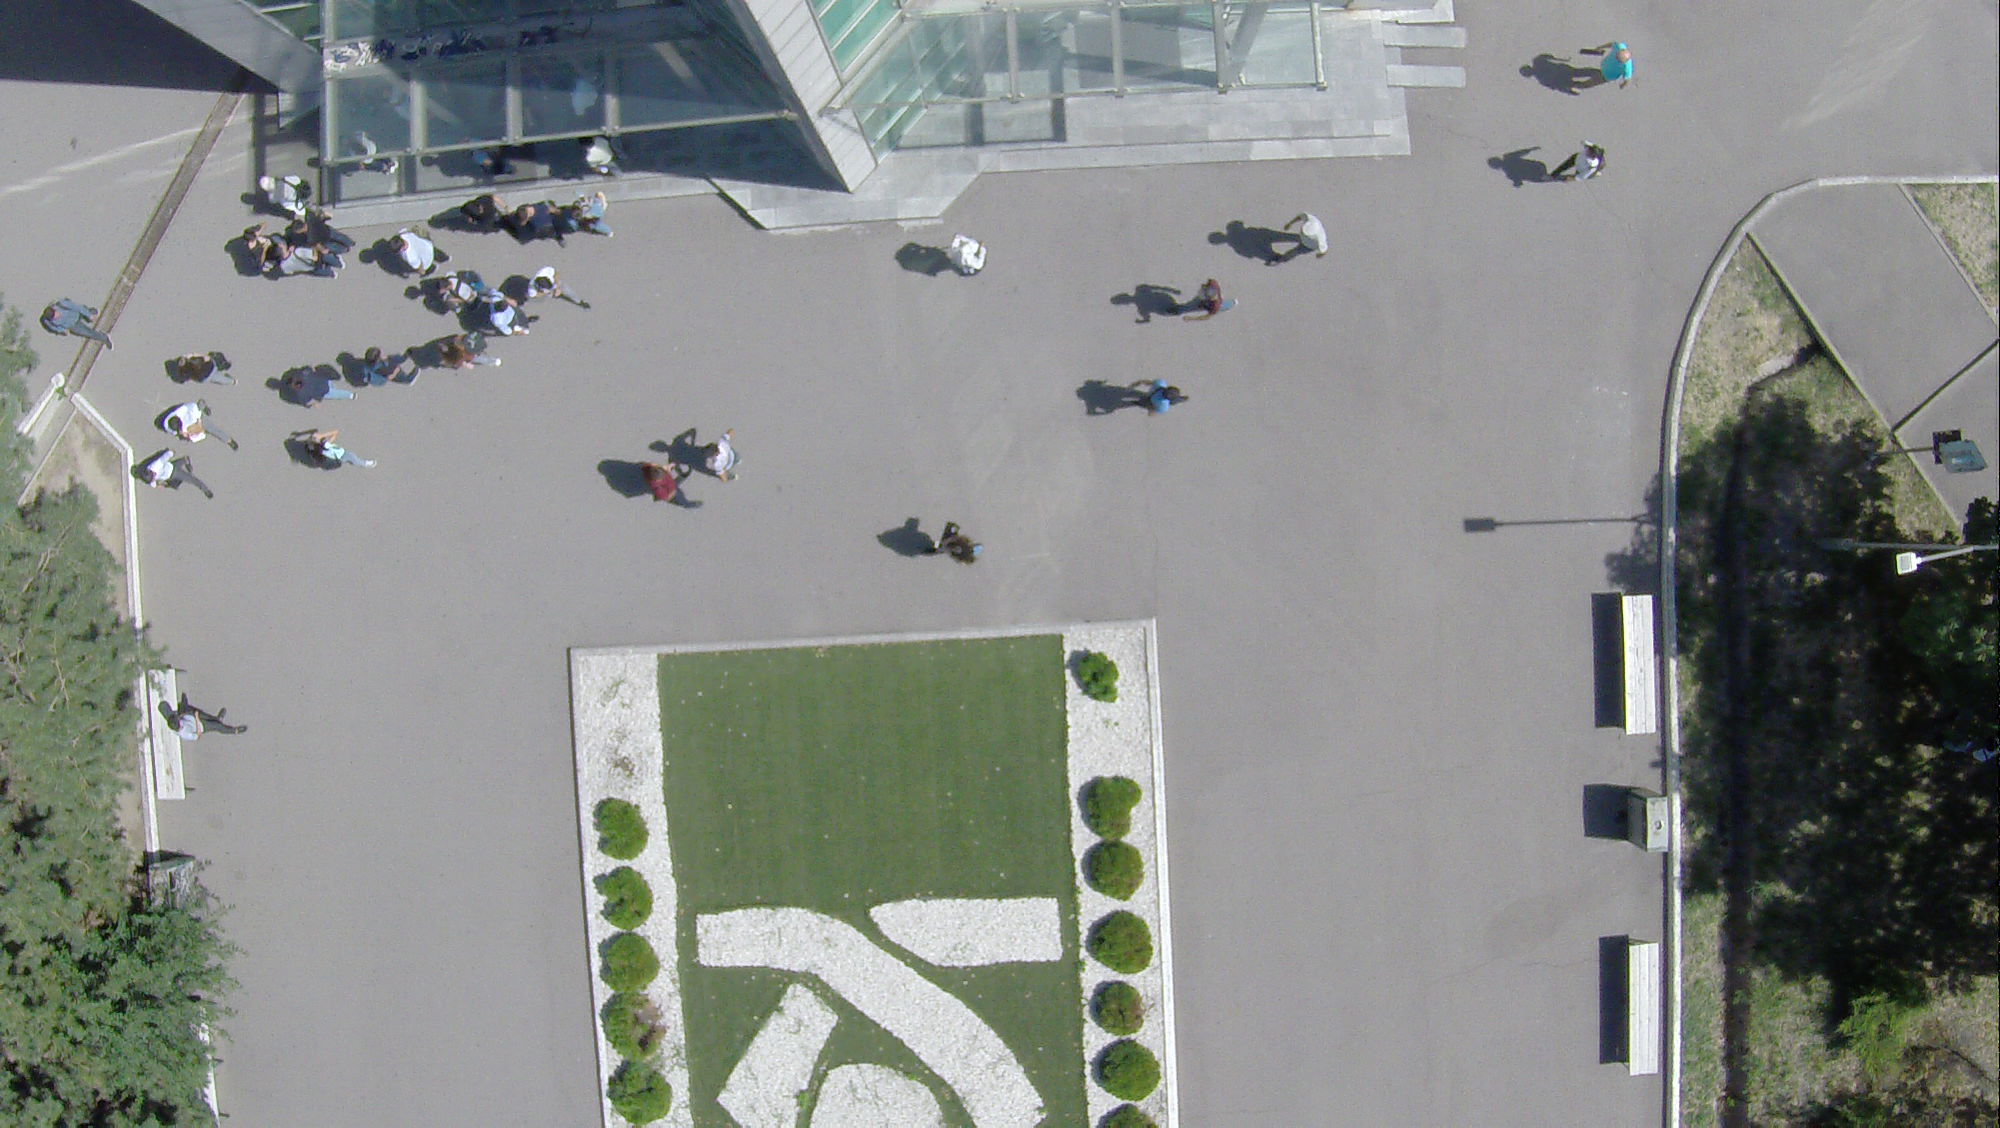person: (36, 297, 115, 355), (1165, 269, 1240, 330), (161, 401, 244, 452), (1266, 208, 1331, 274), (305, 423, 383, 474), (139, 449, 215, 499), (527, 263, 598, 312), (1570, 40, 1633, 94), (391, 224, 455, 276), (1544, 137, 1613, 184), (160, 707, 245, 742), (361, 344, 423, 387), (697, 426, 744, 482), (923, 525, 986, 567), (644, 463, 701, 510), (288, 367, 355, 406), (941, 230, 991, 280), (258, 172, 308, 221), (1131, 377, 1190, 418), (433, 272, 489, 315), (444, 335, 502, 376), (490, 293, 542, 338), (172, 350, 234, 387), (268, 244, 338, 276), (518, 201, 569, 241), (574, 190, 614, 237), (460, 192, 511, 227), (245, 224, 274, 273)
